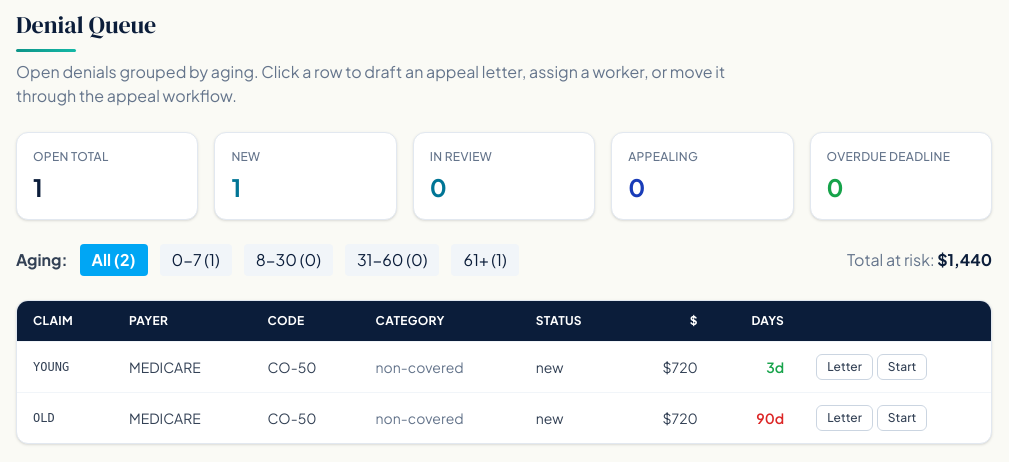
DenialQueuePage › filters by aging bucket
The width and height of the screenshot is (1009, 462).
Check: the text "YOUNG" is shown, box [17,342,113,392]
# Click 61+ bucket
Click the button "61+ (1)": click(485, 260) [451,244,519,276]
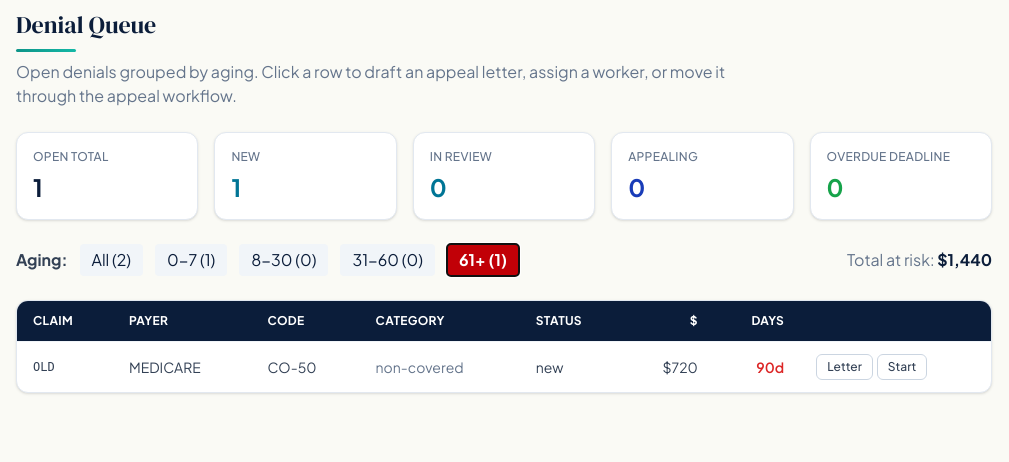
Check: the text "OLD" is shown, box [17,342,113,392]
Check: the text "YOUNG" is gone
